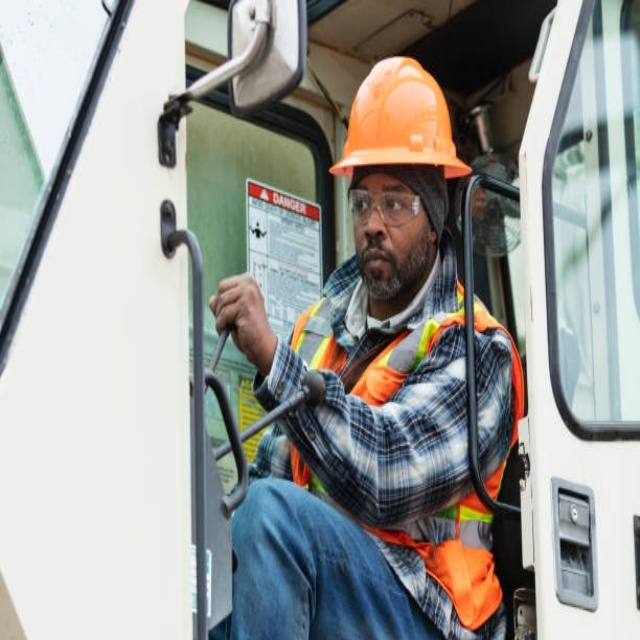Gafas: (346, 183, 421, 227)
Sin_guantes: (204, 268, 275, 368)
Sin_mascara: (360, 243, 395, 286)
